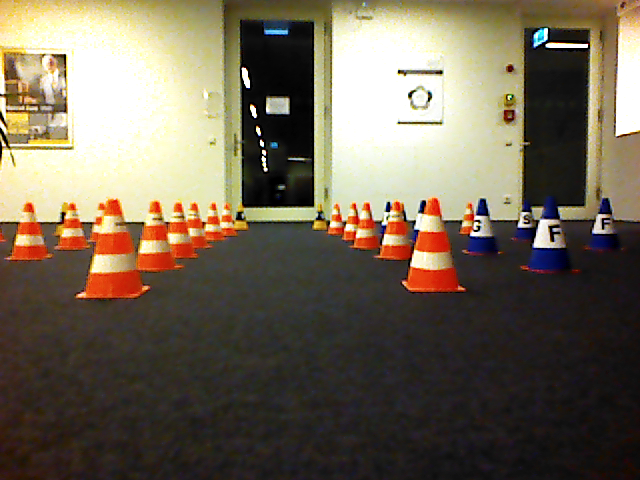bluecone: (518, 196, 582, 277), (583, 195, 628, 255), (464, 196, 505, 258), (511, 200, 539, 242)
orangeconesmall: (73, 198, 149, 302), (402, 197, 469, 294), (134, 200, 179, 274), (5, 202, 54, 264), (377, 201, 414, 262), (169, 201, 199, 260), (54, 202, 90, 251), (352, 201, 382, 249)
